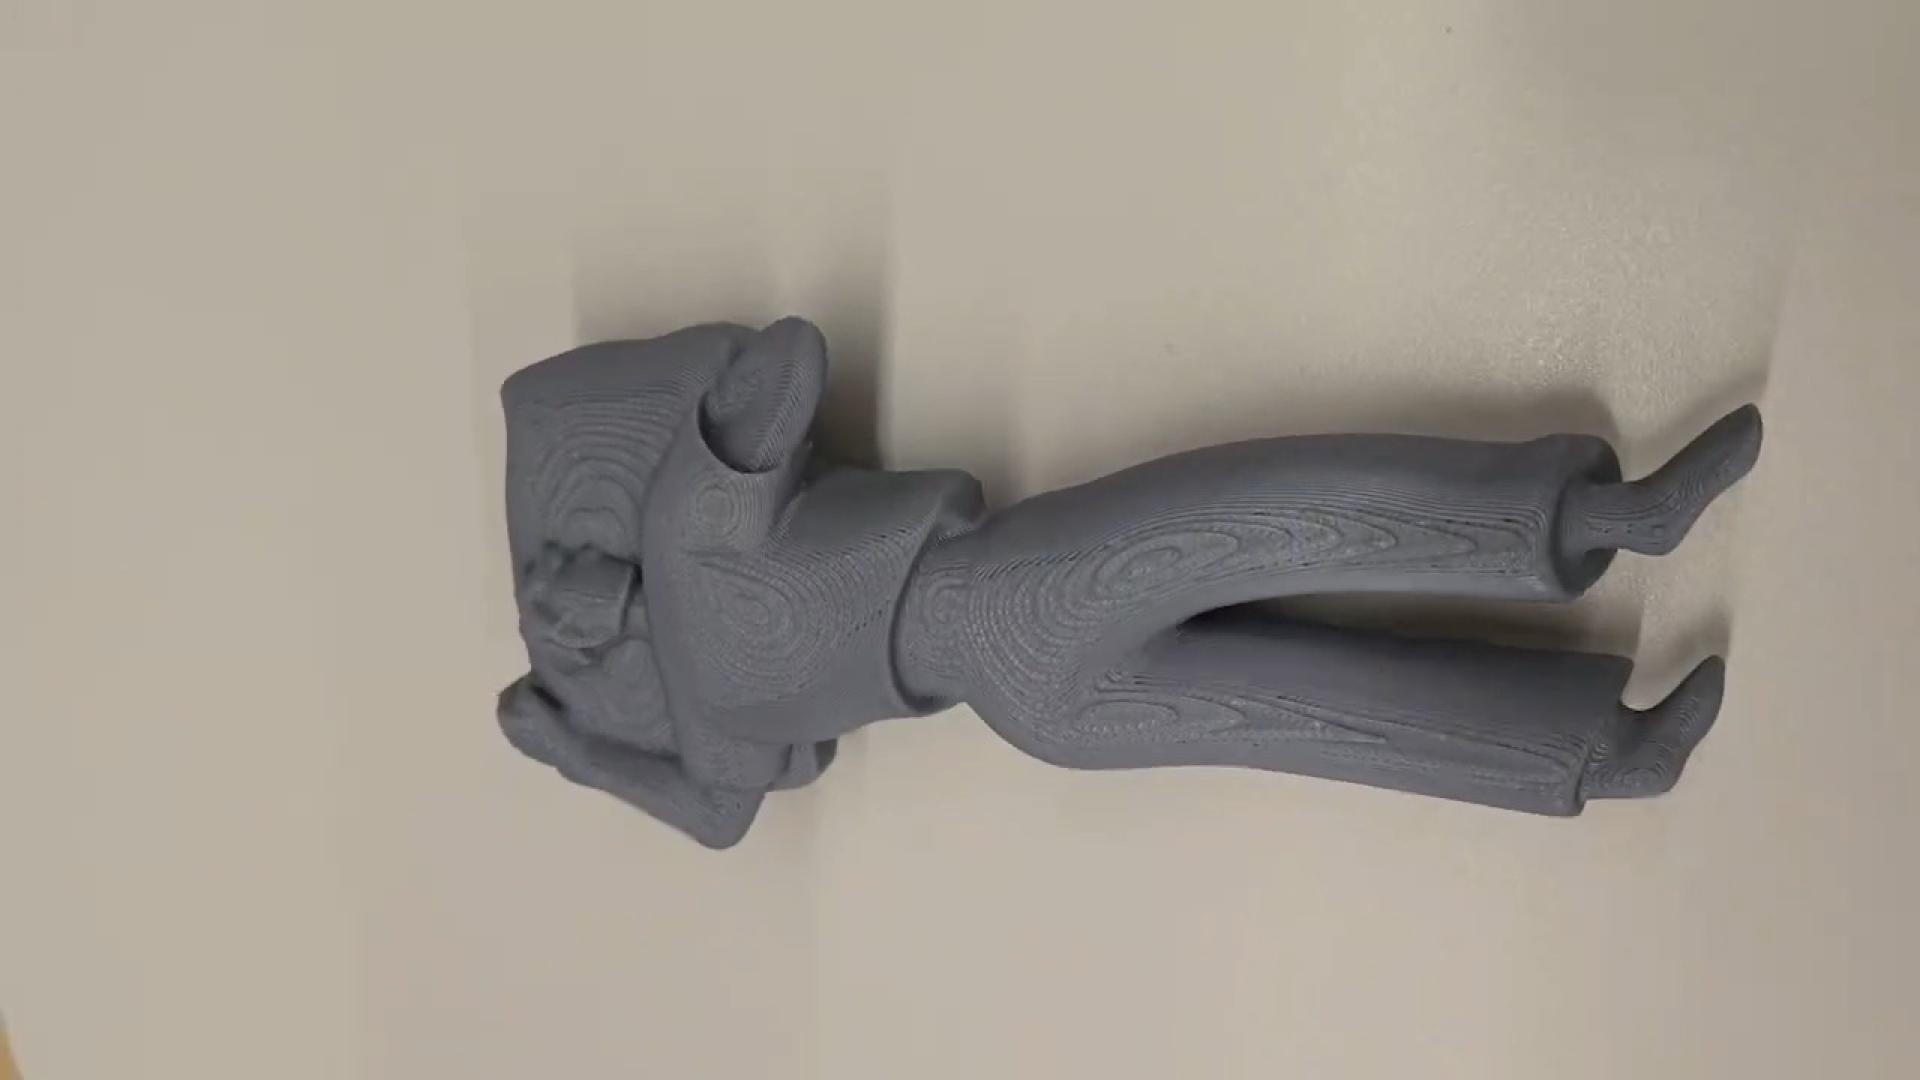Bad-style: (493, 315, 1764, 855)
